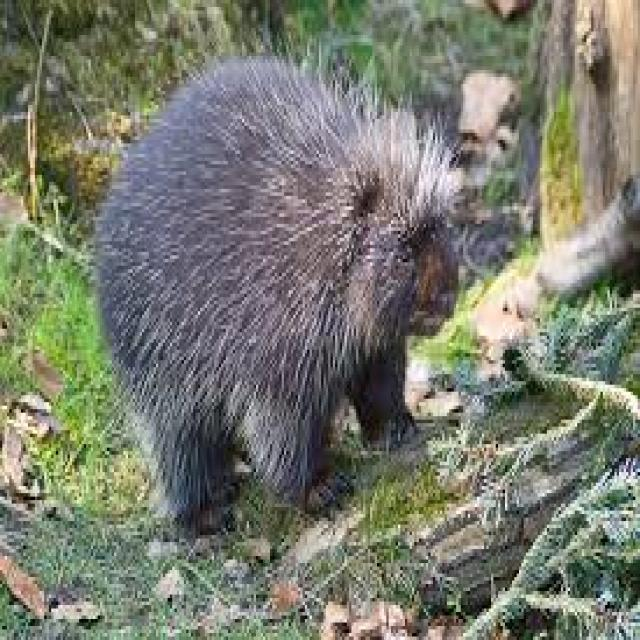Porcupine: (91, 47, 459, 514)
